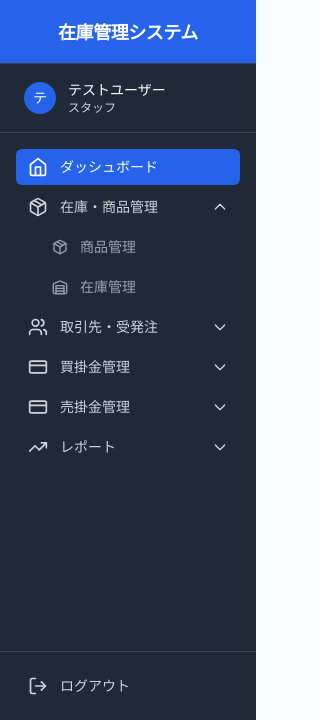
it: Sidebar › セクション開閉 › should toggle inventory section on click
Check: the link "商品管理" is shown, box top-left (52, 238), bottom-right (136, 255)
セクションをクリックして閉じる
Click the button "在庫・商品管理" at [128, 207], box top-left (16, 189), bottom-right (240, 225)
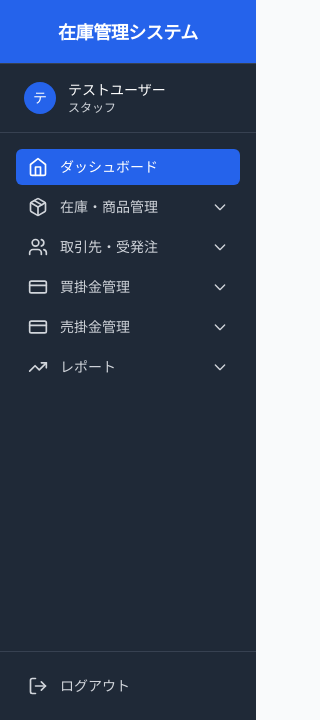
再度クリックして開く
Click the button "在庫・商品管理" at [128, 207], box top-left (16, 189), bottom-right (240, 225)
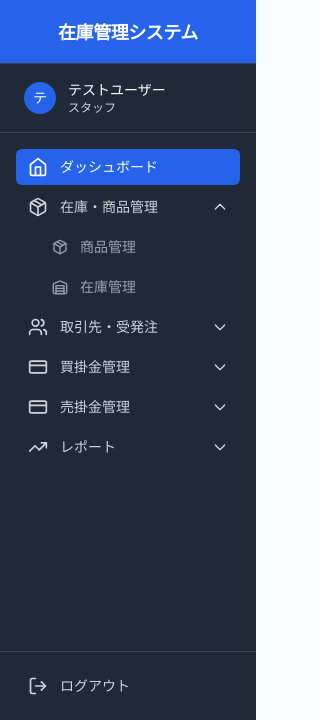
Check: the link "商品管理" is shown, box top-left (52, 238), bottom-right (136, 255)
